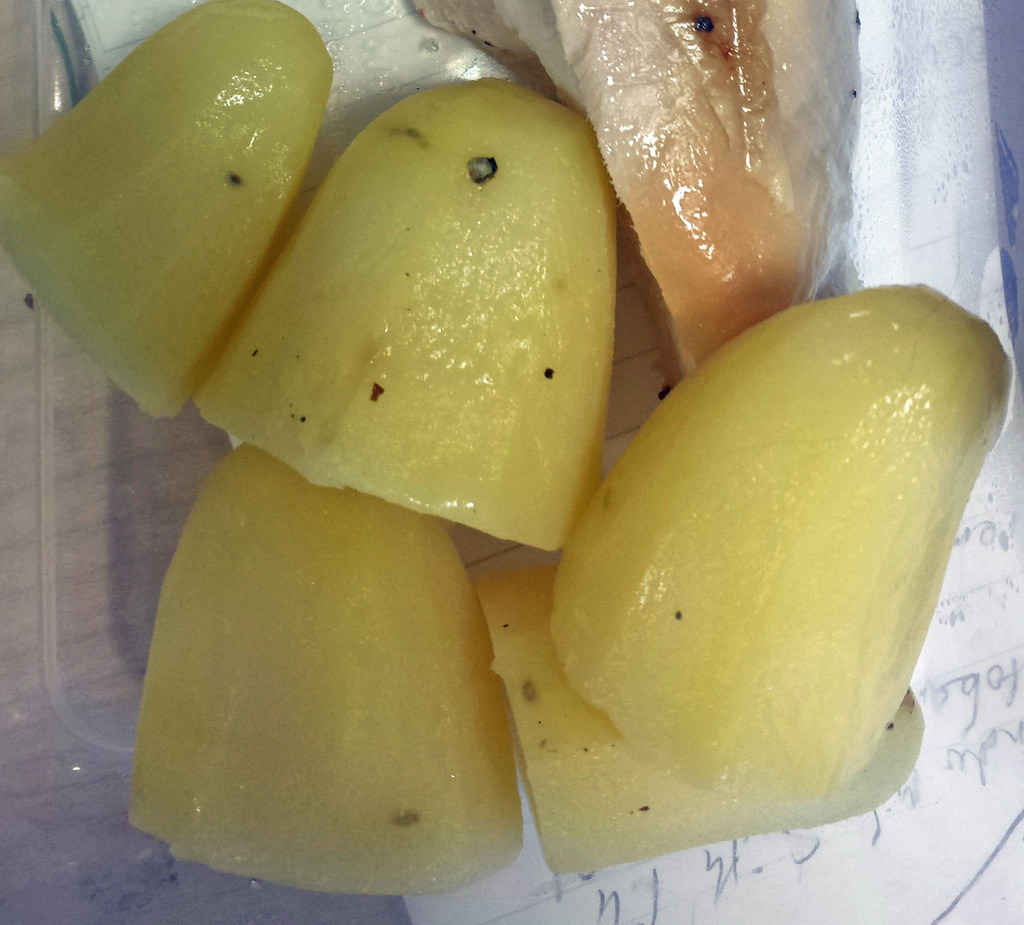boiled potatoes: (99, 110, 799, 828)
